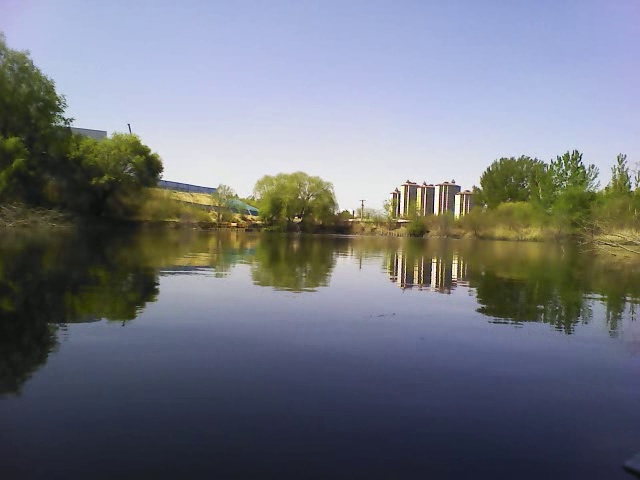aircraft_carrier: (618, 444, 638, 477)
